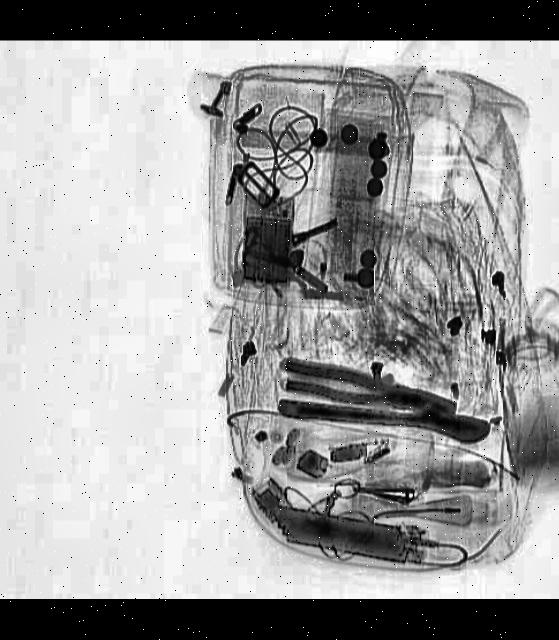Pliers: (277, 356, 456, 428)
Wrench: (272, 388, 490, 445)
